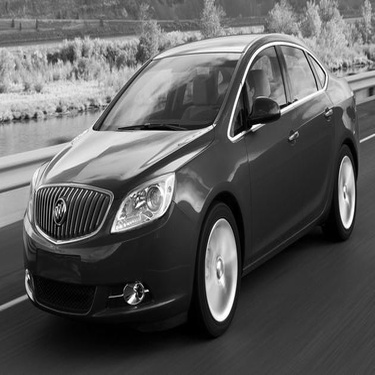car: (17, 26, 363, 346)
